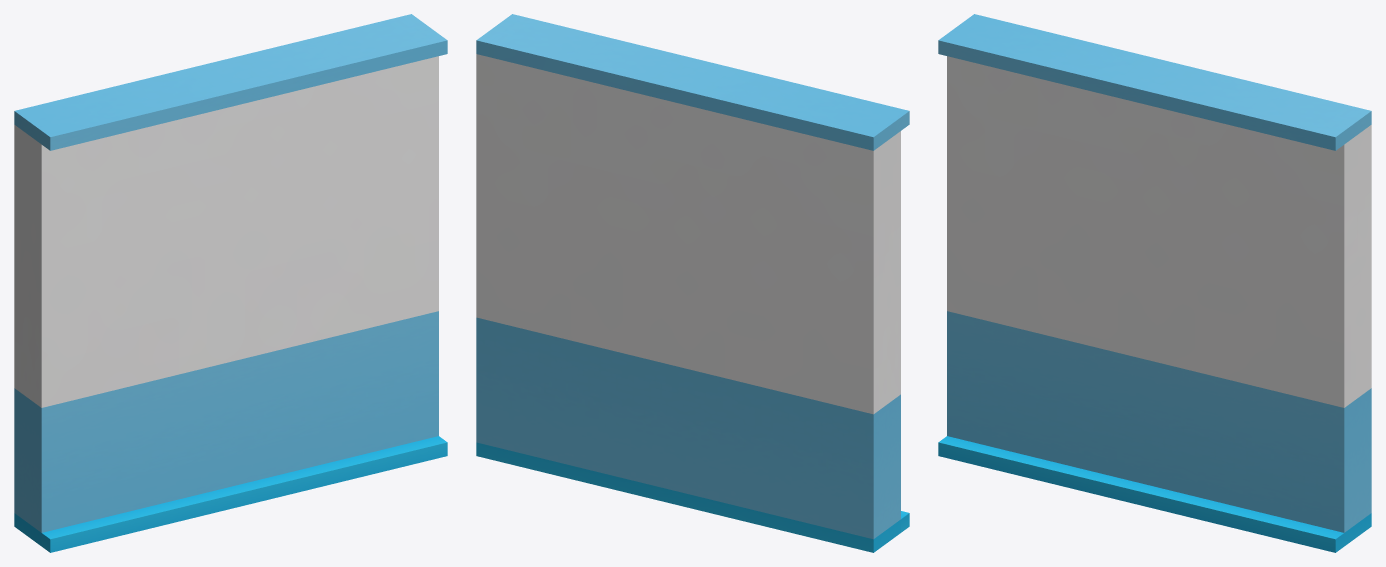
Rendered from wall_1.glb.
3 renders of one model, left to right at view 1: azimuth 30°, elevation 25°; view 2: azimuth 150°, elevation 25°; view 3: azimuth 330°, elevation 25°, orthographic.
Parts seen in each view (by area): view 1: wall_1; view 2: wall_1; view 3: wall_1.
Part boxes in pixels (x1=…): wall_1: x1=14, y1=14, x2=447, y2=552; wall_1: x1=476, y1=14, x2=909, y2=552; wall_1: x1=938, y1=14, x2=1371, y2=552.
Size of the model in its own units: 2 by 2 by 0.314.
1 material, 1 textured.
